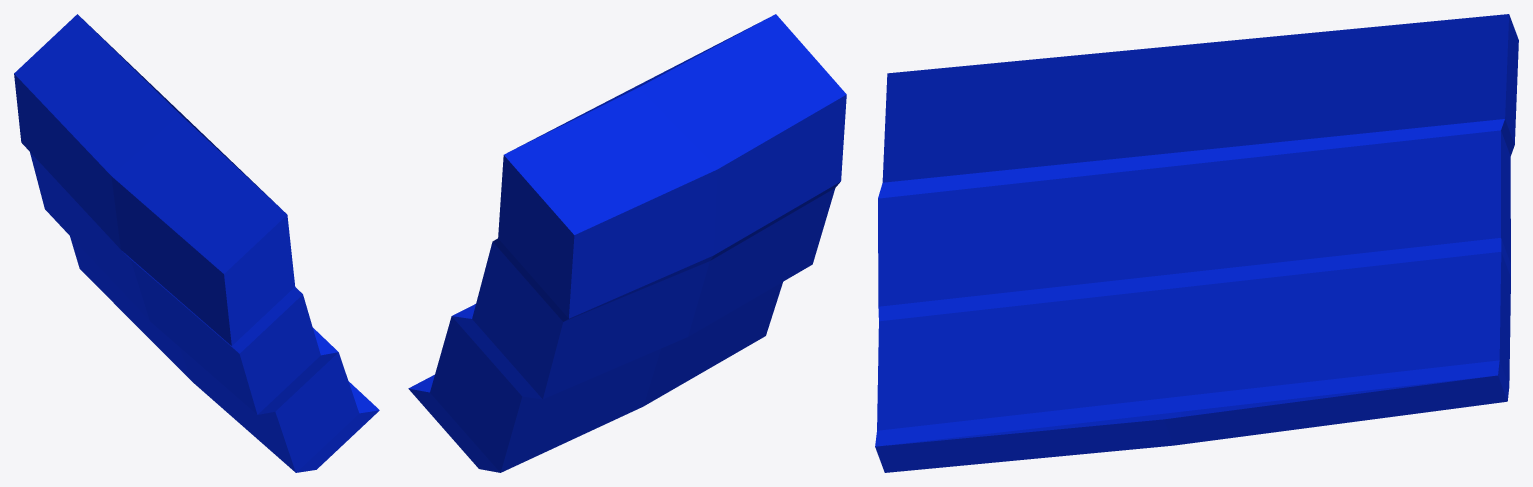
Rendered from Bote Taller_pieza3.fbx.
The picture shows the model from 3 angles, left to right: view 1: azimuth 30°, elevation 25°; view 2: azimuth 150°, elevation 25°; view 3: azimuth 270°, elevation 25°; orthographic projection. The views are drawn at different scales.
Visible parts, largest first — view 1: BaseBote.002; view 2: BaseBote.002; view 3: BaseBote.002.
Boxes of the visible parts, x1,y1,x2,y2 form: BaseBote.002: (14, 14, 379, 472); BaseBote.002: (408, 14, 846, 472); BaseBote.002: (875, 14, 1518, 472).
Bounding box in the file's own units: 55.43 × 105 × 139.
